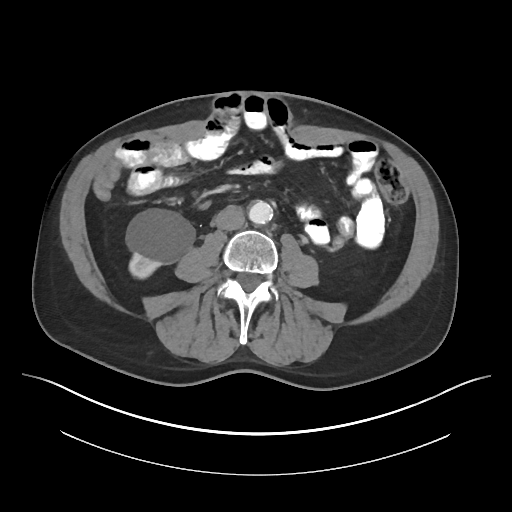Lesion: (126, 210, 198, 262)
